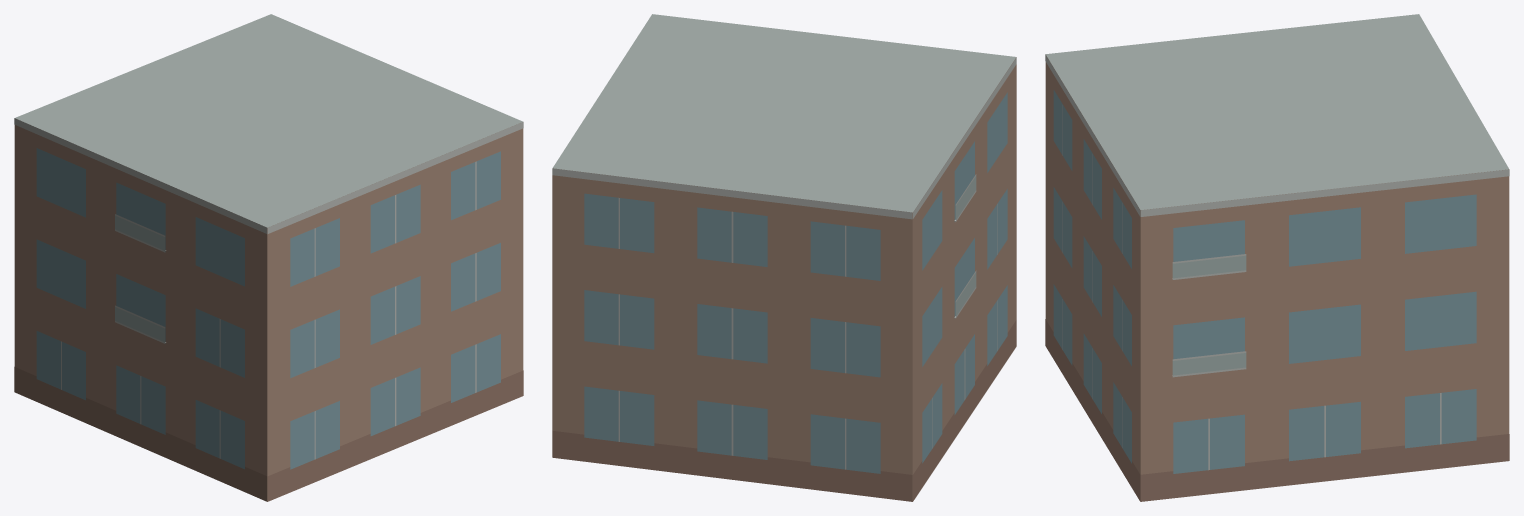
The model's file is survey-upis-32693616.glb.
3 renders of one model, left to right at view 1: azimuth 30°, elevation 25°; view 2: azimuth 150°, elevation 25°; view 3: azimuth 270°, elevation 25°, orthographic. The views are drawn at different scales.
Visible parts, largest first — view 1: survey-upis-32693616.tmp; view 2: survey-upis-32693616.tmp; view 3: survey-upis-32693616.tmp.
Boxes of the visible parts, box(x1,y1,x2,y2) form: survey-upis-32693616.tmp: box(14, 14, 523, 501); survey-upis-32693616.tmp: box(552, 14, 1016, 501); survey-upis-32693616.tmp: box(1045, 14, 1509, 501).
Bounding box in the file's own units: 14.72 × 10.2 × 14.71.
